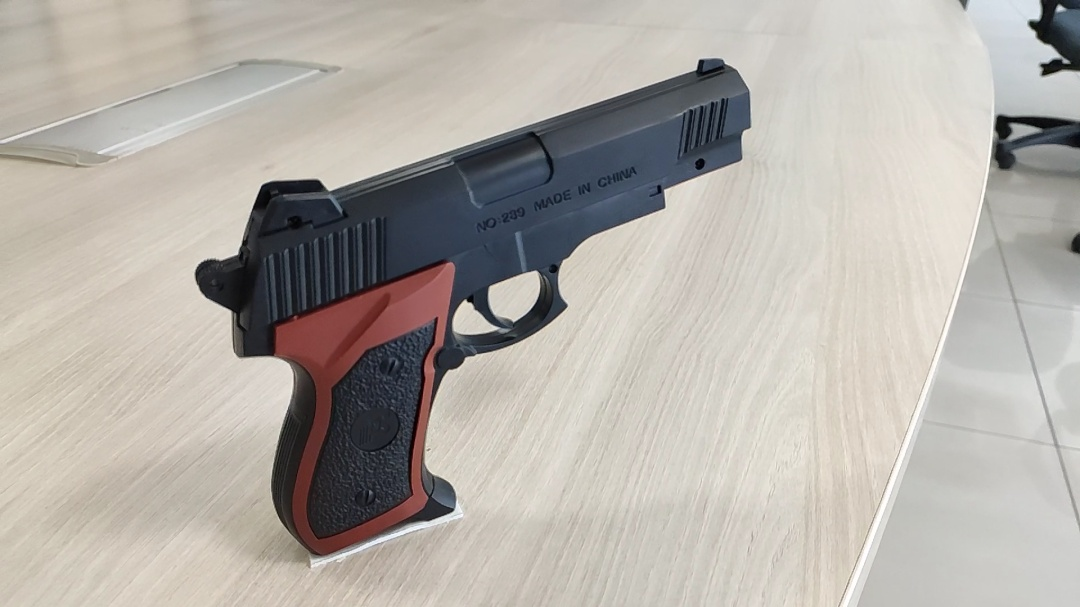gun: (195, 58, 754, 560)
